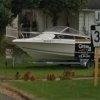Boat: (8, 21, 90, 69)
